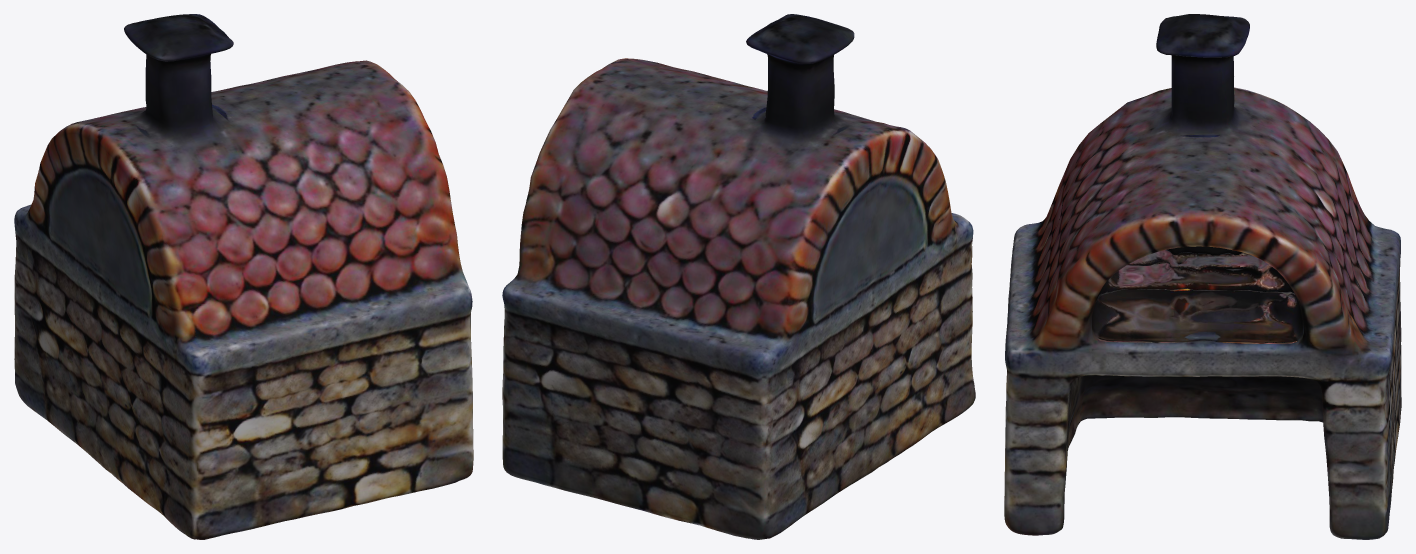
Rendered from Oven.fbx.
3 views of the same model, side by side, from view 1: azimuth 30°, elevation 25°; view 2: azimuth 150°, elevation 25°; view 3: azimuth 270°, elevation 25° (orthographic). The views are drawn at different scales.
Parts seen in each view (by area): view 1: mesh; view 2: mesh; view 3: mesh.
Part boxes in pixels (left/top/right/bottom): mesh: left=14, top=14, right=473, bottom=539; mesh: left=502, top=14, right=975, bottom=539; mesh: left=1004, top=14, right=1401, bottom=539.
Bounding box in the file's own units: 71.21 × 99.89 × 85.84.
